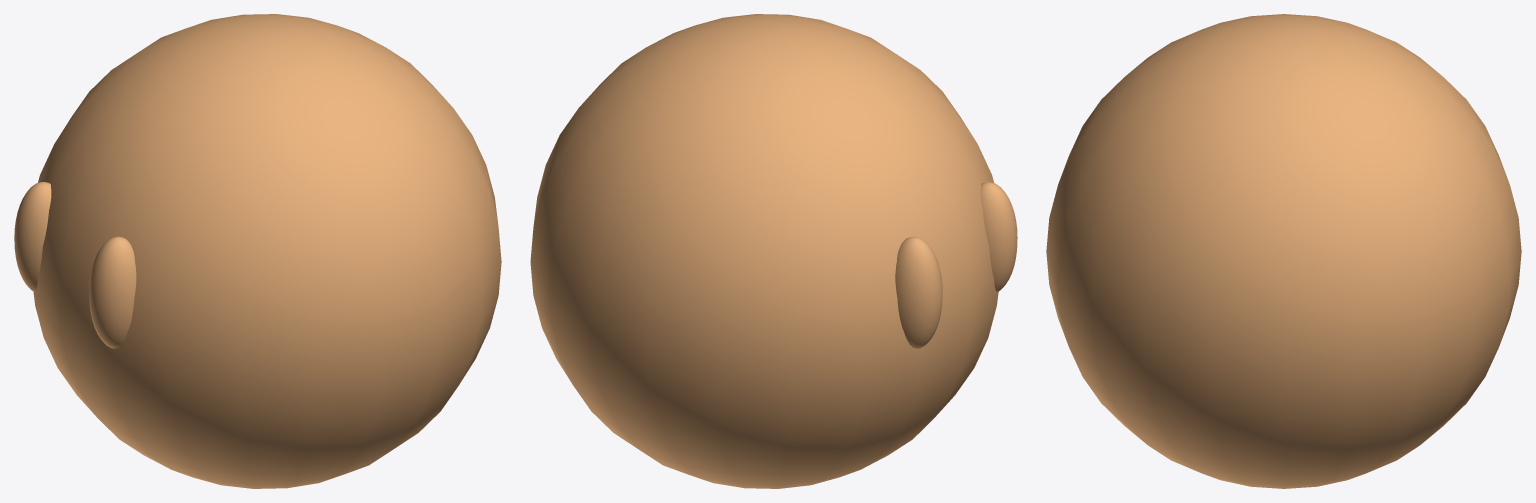
The model's file is Player.fbx.
3 renders of one model, left to right at view 1: azimuth 30°, elevation 25°; view 2: azimuth 150°, elevation 25°; view 3: azimuth 270°, elevation 25°, orthographic.
Visible parts, largest first — view 1: pSphere4; view 2: pSphere4; view 3: pSphere4.
Boxes of the visible parts, x1,y1,x2,y2 form: pSphere4: (14,14,501,488); pSphere4: (530,14,1017,488); pSphere4: (1046,14,1521,488).
Bounding box in the file's own units: 2.02 × 2 × 2.
